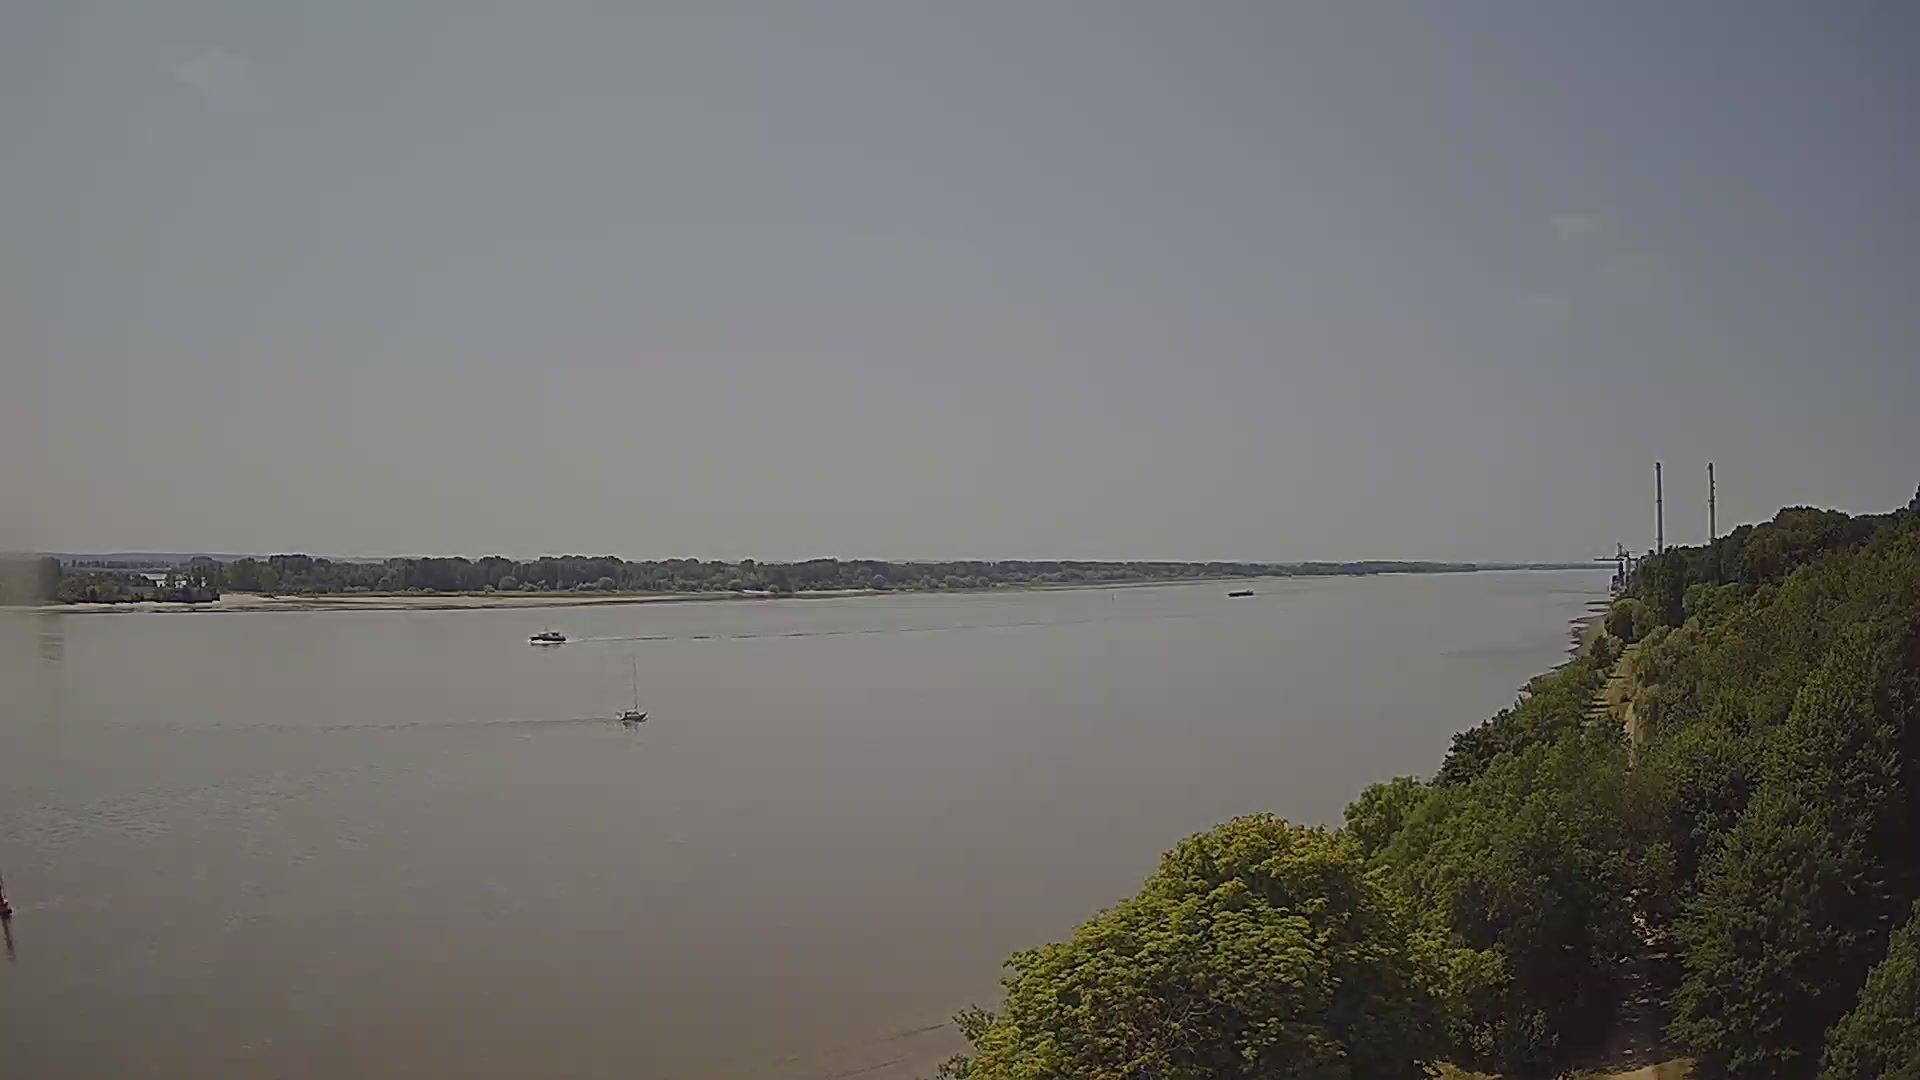sea: (615, 658, 649, 720), (527, 625, 568, 642), (1226, 588, 1255, 597)
